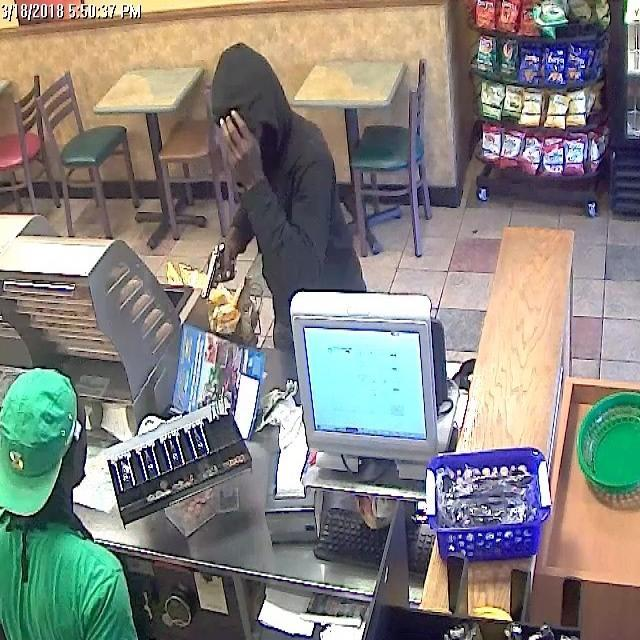weapon: (196, 240, 238, 304)
